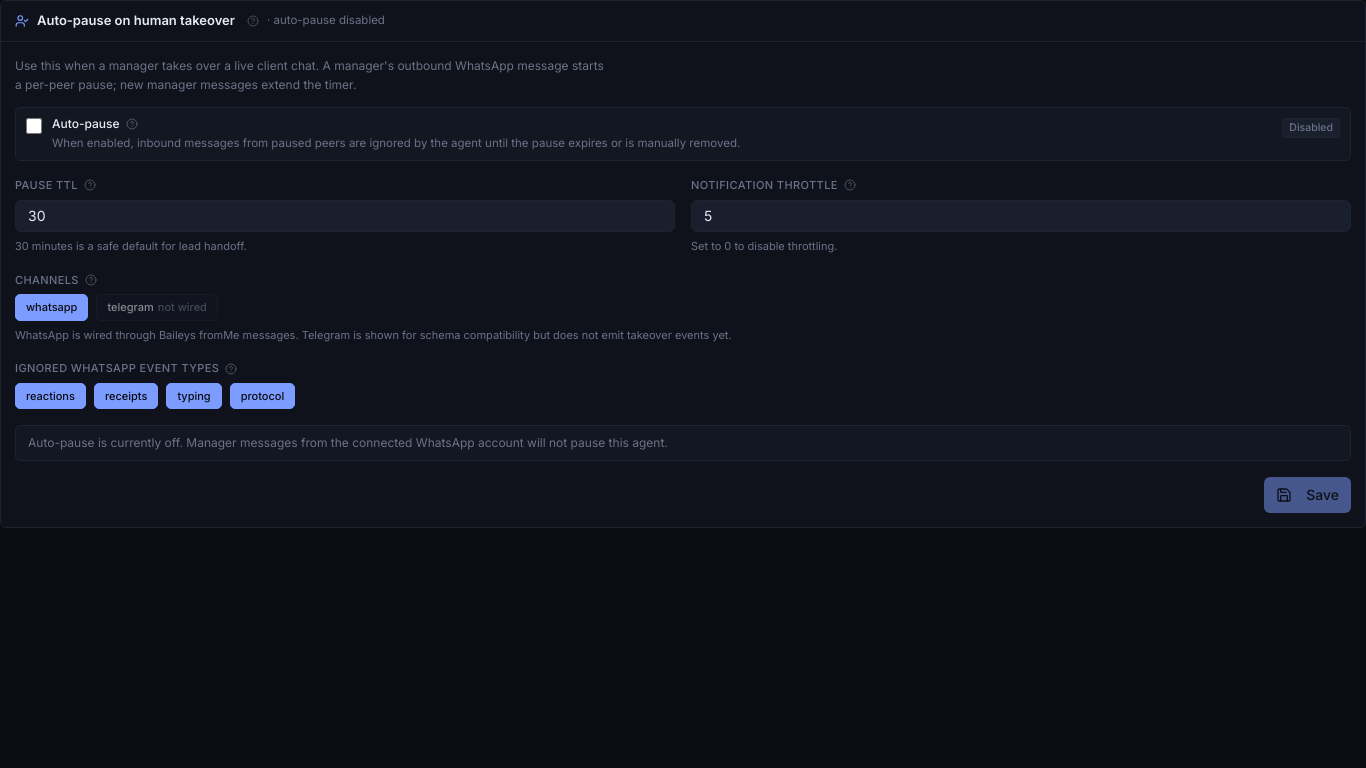
it: HumanTakeoverCard › toggling enabled marks the form dirty (Save becomes enabled)
This screenshot has width=1366, height=768.
Expected: the button "Save" is disabled, [1264, 477, 1351, 513]
Click the checkbox labelled "enabled": (34, 126) [26, 118, 42, 134]
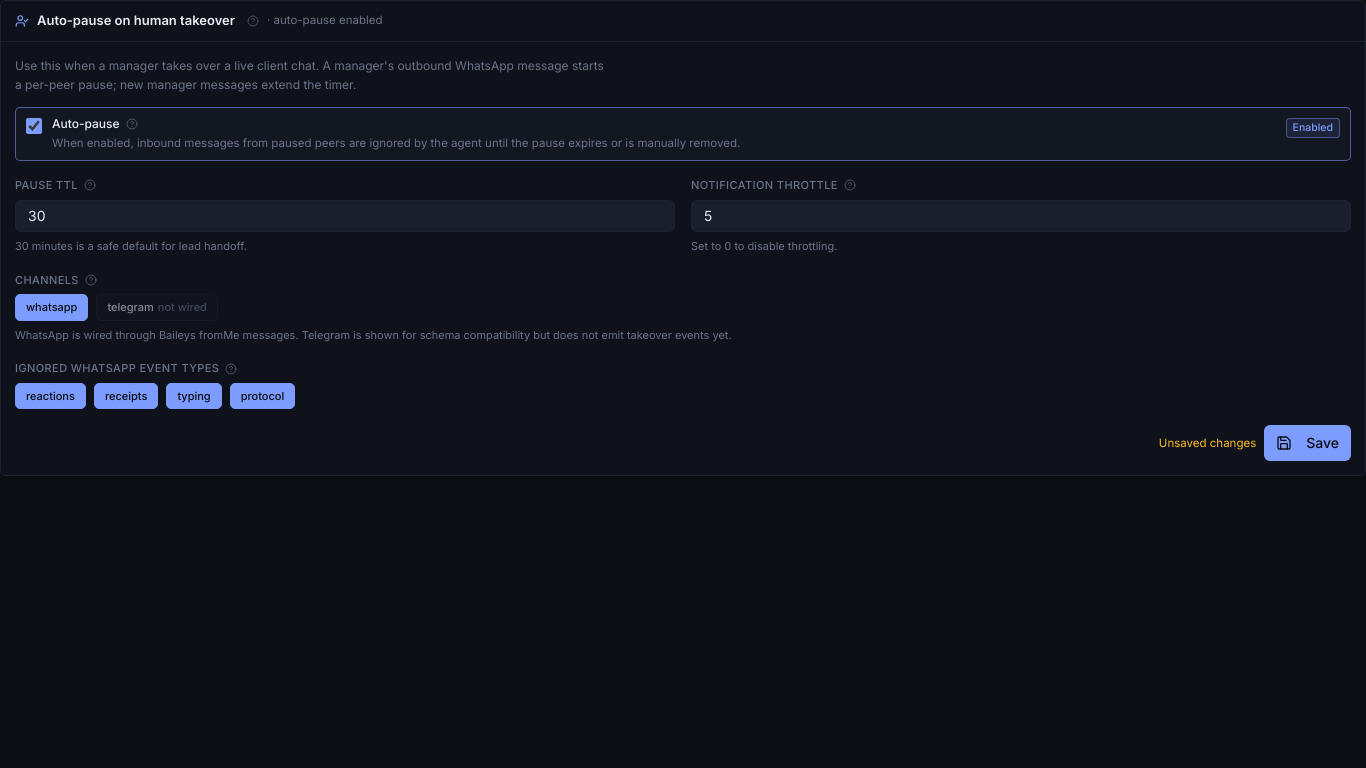
Expected: the button "Save" is enabled, [1264, 425, 1351, 461]
